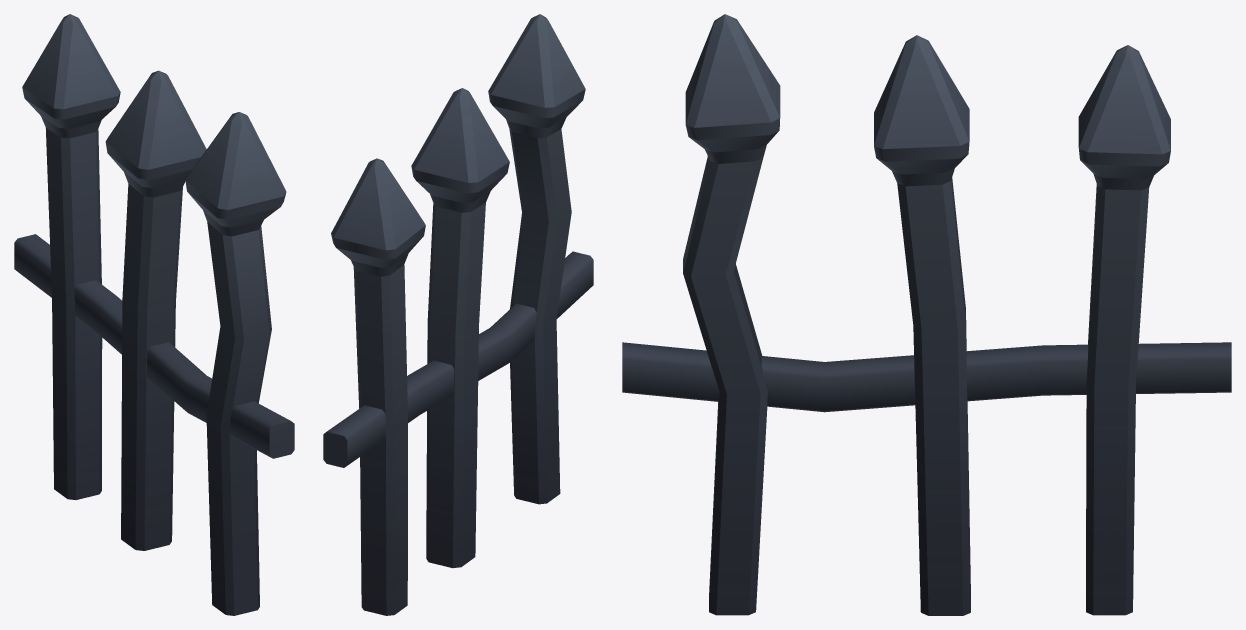
Rendered from Fence_5_2.obj.
The picture shows the model from 3 angles, left to right: view 1: azimuth 30°, elevation 25°; view 2: azimuth 150°, elevation 25°; view 3: azimuth 270°, elevation 25°; orthographic projection. The views are drawn at different scales.
Visible parts, largest first — view 1: Fence_5_2; view 2: Fence_5_2; view 3: Fence_5_2.
Boxes of the visible parts, x1,y1,x2,y2 form: Fence_5_2: (14, 14, 294, 615); Fence_5_2: (323, 14, 593, 615); Fence_5_2: (622, 14, 1231, 615).
Bounding box in the file's own units: 0.1533 × 1.04 × 0.9745.
